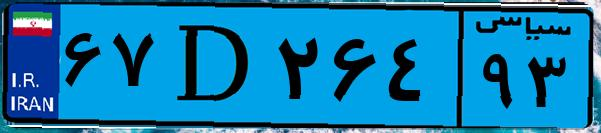2: (270, 28, 330, 110)
3: (525, 38, 570, 115)
4: (385, 28, 445, 110)
6: (330, 28, 385, 110), (57, 26, 110, 100)
7: (110, 28, 158, 98)
9: (475, 38, 525, 113)
D: (158, 12, 270, 120)
